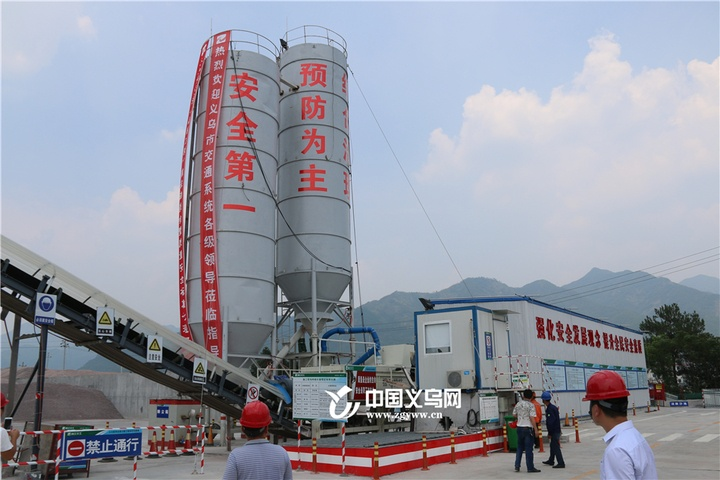blue: (540, 390, 551, 405)
none: (521, 388, 534, 401)
red: (581, 368, 635, 428), (238, 401, 272, 438)
